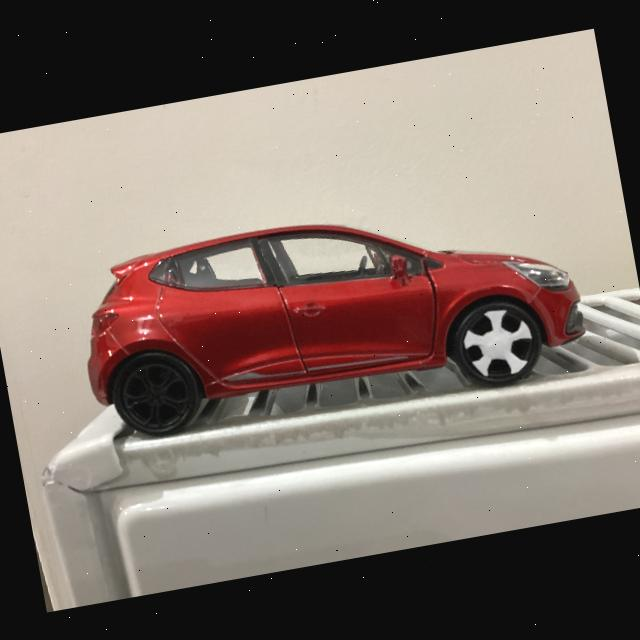Dogru_Jant: (116, 357, 193, 433)
Yanlis_Jant: (458, 304, 540, 384)
